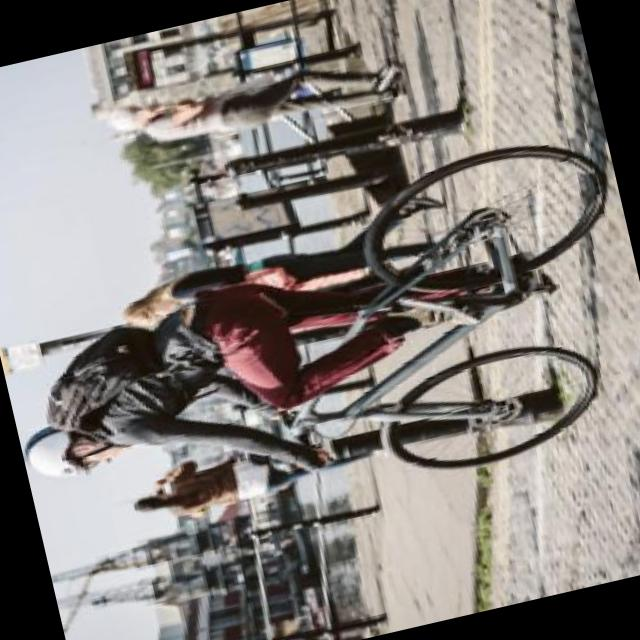With Helmet: (17, 405, 138, 493)
